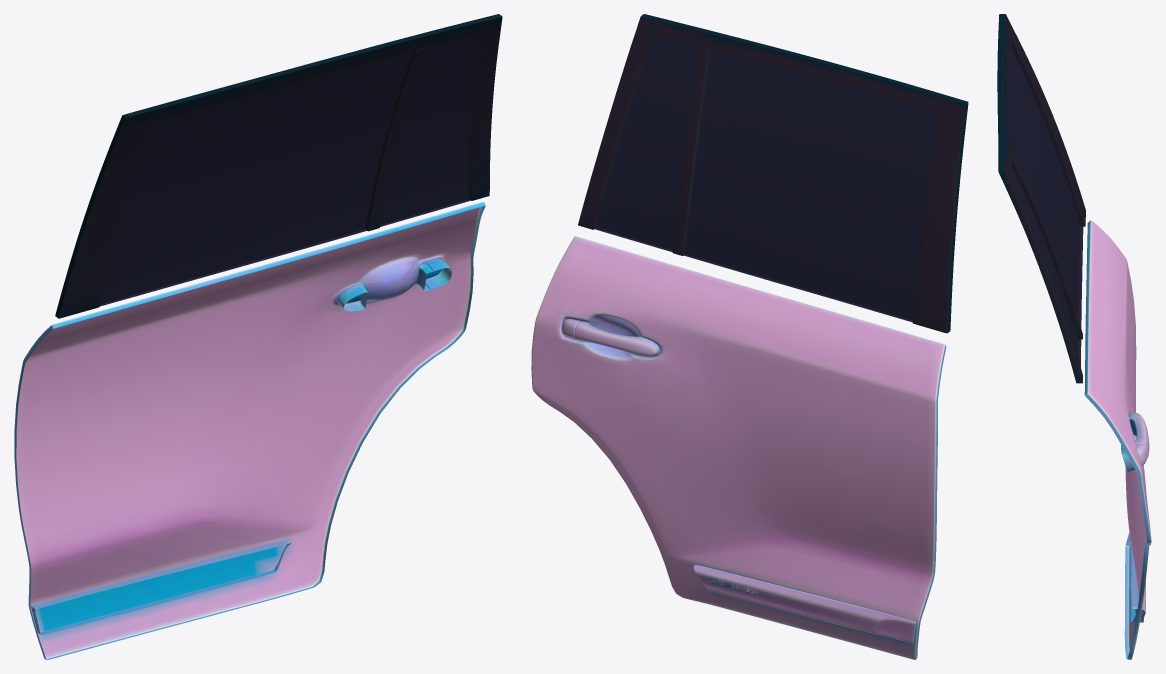
File: door_RR.glb
3 views of the same model, side by side, from view 1: azimuth 30°, elevation 25°; view 2: azimuth 150°, elevation 25°; view 3: azimuth 270°, elevation 25° (orthographic). The views are drawn at different scales.
Visible parts, largest first — view 1: carpaint_6, windowglass_39, black_10, chrome_3; view 2: carpaint_6, windowglass_39, black_10, chrome_3; view 3: carpaint_6, windowglass_39, black_10, chrome_3.
Part boxes in pixels (x1,y1,x2,y2): carpaint_6: (14,201,485,659); windowglass_39: (99,33,481,306); black_10: (55,14,502,318); chrome_3: (31,259,451,635); carpaint_6: (531,236,946,659); windowglass_39: (595,36,938,322); black_10: (578,14,968,333); chrome_3: (562,319,916,643); carpaint_6: (1084,220,1151,659); windowglass_39: (1011,44,1083,366); black_10: (997,14,1085,383); chrome_3: (1121,412,1149,622).
Bounding box in the file's own units: 1.06 × 1.32 × 0.3374.
